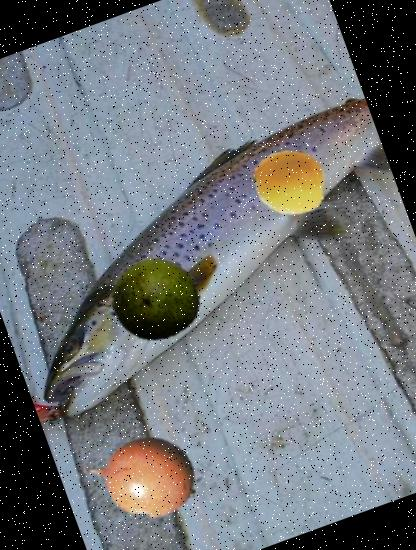Avocado: (98, 241, 214, 356)
Granadilla: (68, 403, 214, 549)
Peach: (242, 135, 336, 229)
